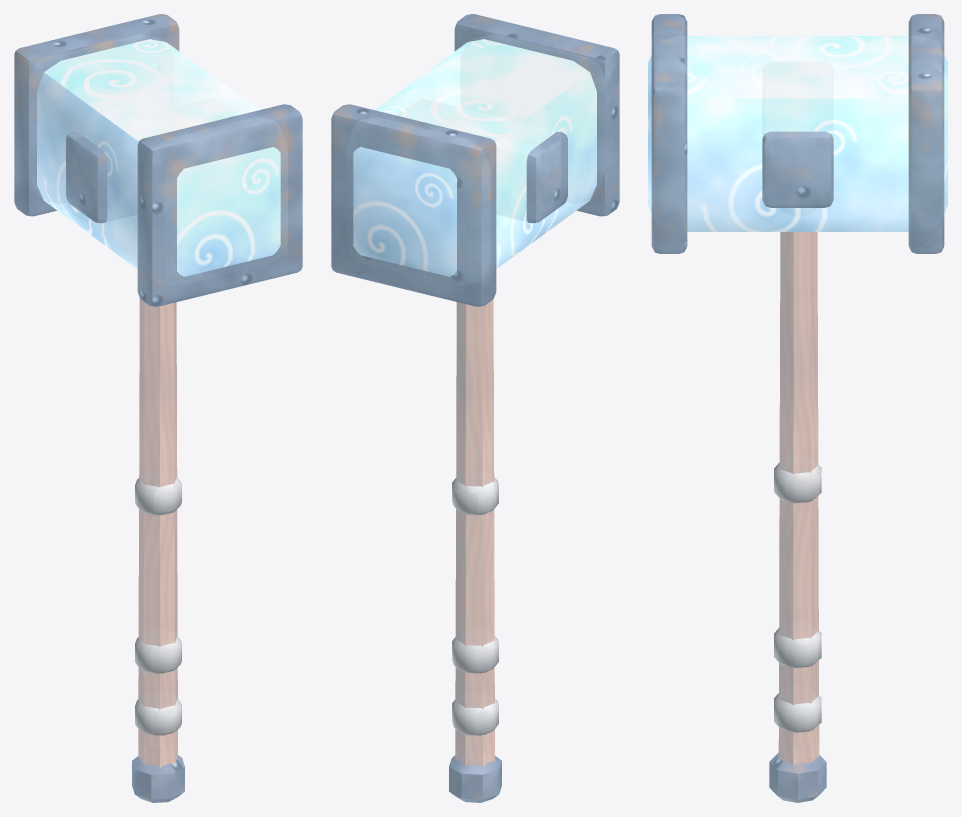
File: sledgehammer_t2.gltf
3 views of the same model, side by side, from view 1: azimuth 30°, elevation 25°; view 2: azimuth 150°, elevation 25°; view 3: azimuth 270°, elevation 25° (orthographic). The views are drawn at different scales.
Visible parts, largest first — view 1: sledgehammer_t2_mesh; view 2: sledgehammer_t2_mesh; view 3: sledgehammer_t2_mesh.
Boxes of the visible parts, x1,y1,x2,y2 form: sledgehammer_t2_mesh: (14,14,302,802); sledgehammer_t2_mesh: (331,14,619,802); sledgehammer_t2_mesh: (648,14,947,802).
Size of the model in its own units: 0.265 by 1.15 by 0.42.
4 materials, 4 textured.
